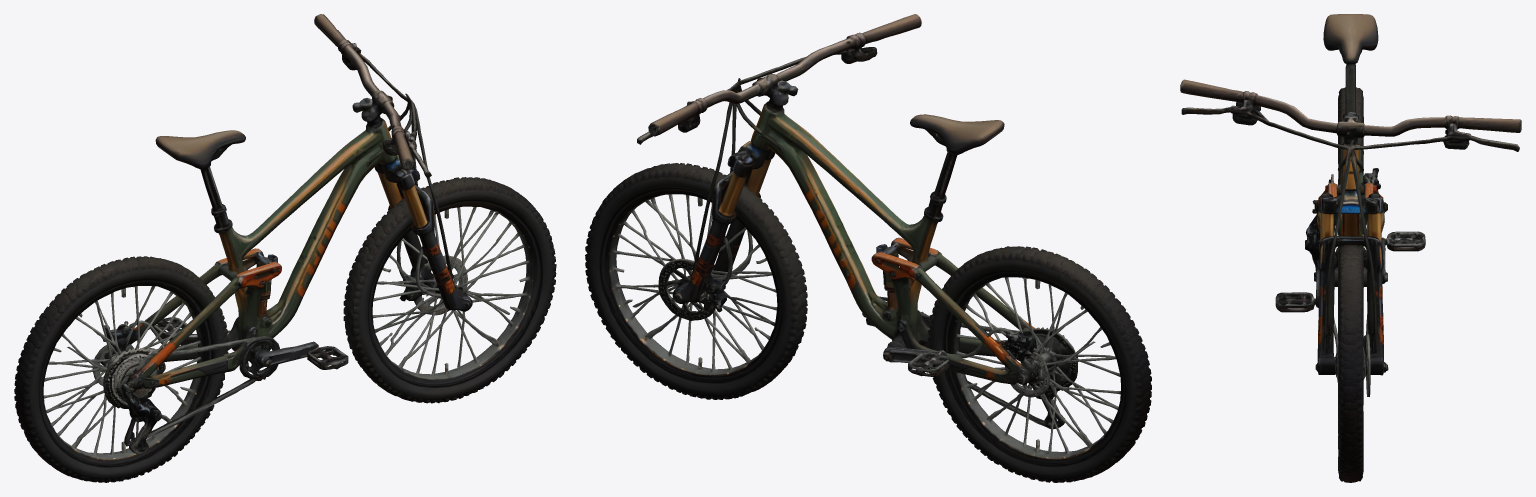
The model's file is Velo basic.glb.
3 views of the same model, side by side, from view 1: azimuth 30°, elevation 25°; view 2: azimuth 150°, elevation 25°; view 3: azimuth 270°, elevation 25° (orthographic). The views are drawn at different scales.
Visible parts, largest first — view 1: tripo_node_4239d812-33d2-4338-aba6-31b35197877c; view 2: tripo_node_4239d812-33d2-4338-aba6-31b35197877c; view 3: tripo_node_4239d812-33d2-4338-aba6-31b35197877c.
Part boxes in pixels (box(x1,y1,x2,y2)): tripo_node_4239d812-33d2-4338-aba6-31b35197877c: box(14, 14, 556, 482); tripo_node_4239d812-33d2-4338-aba6-31b35197877c: box(585, 14, 1151, 482); tripo_node_4239d812-33d2-4338-aba6-31b35197877c: box(1180, 14, 1521, 482).
Bounding box in the file's own units: 1 × 0.5936 × 0.5562.
1 material, 1 textured.
